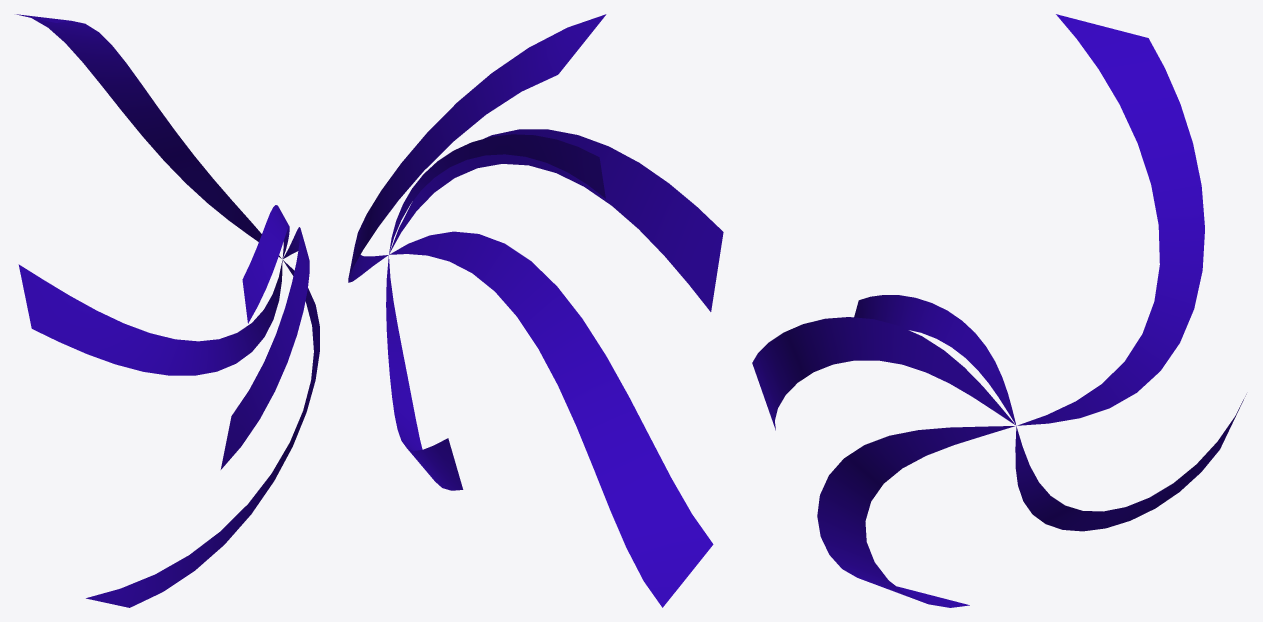
The model's file is SM_WEP_Eff_Rasengan_E_01.mo.fbx.
The picture shows the model from 3 angles, left to right: view 1: azimuth 30°, elevation 25°; view 2: azimuth 150°, elevation 25°; view 3: azimuth 270°, elevation 25°; orthographic projection. The views are drawn at different scales.
Visible parts, largest first — view 1: SM_WEP_Eff_Rasengan_E_01.mo; view 2: SM_WEP_Eff_Rasengan_E_01.mo; view 3: SM_WEP_Eff_Rasengan_E_01.mo.
Boxes of the visible parts, left/top/right/bottom form: SM_WEP_Eff_Rasengan_E_01.mo: left=16, top=14, right=319, bottom=607; SM_WEP_Eff_Rasengan_E_01.mo: left=348, top=14, right=723, bottom=607; SM_WEP_Eff_Rasengan_E_01.mo: left=752, top=14, right=1246, bottom=607.
Size of the model in its own units: 0.0312 by 0.0743 by 0.0561.
